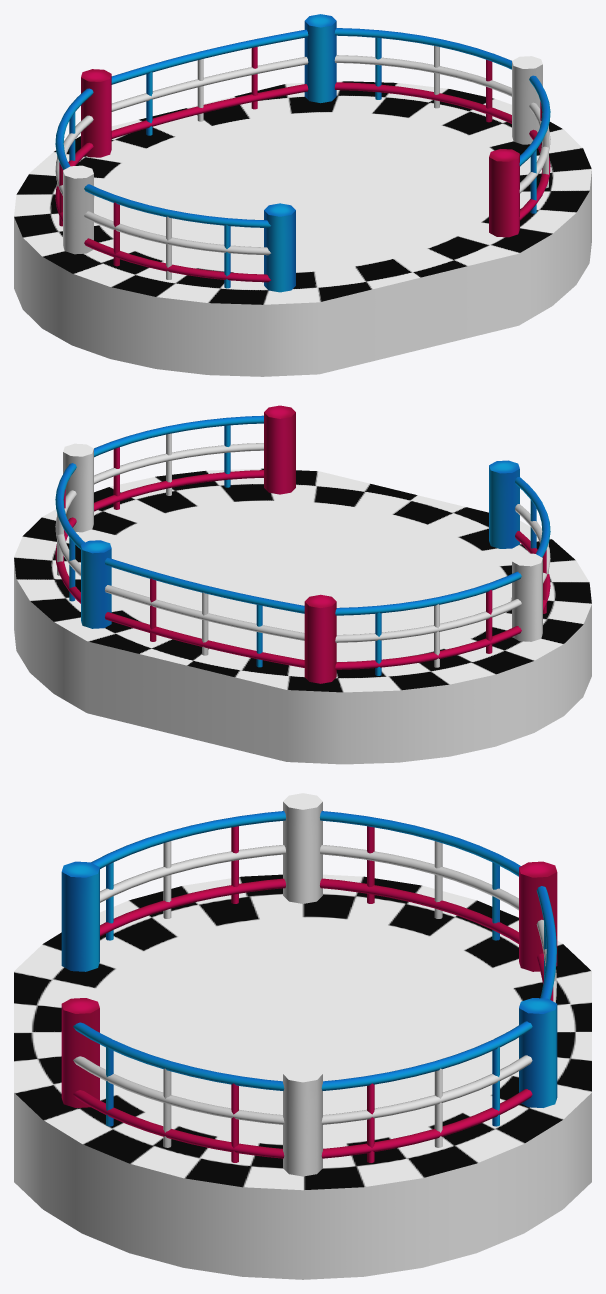
File: Mini_Boss.fbx
3 views of the same model, one above another, from view 1: azimuth 30°, elevation 25°; view 2: azimuth 150°, elevation 25°; view 3: azimuth 270°, elevation 25° (orthographic). The views are drawn at different scales.
Parts seen in each view (by area): view 1: Base, polySurface3 (×5), polySurface31 (×5), polySurface32 (×4), polySurface29, polySurface27, polySurface26, polySurface5, polySurface30, polySurface28; view 2: Base, polySurface3 (×5), polySurface31 (×4), polySurface32 (×3), polySurface30, polySurface27, polySurface26, polySurface29, polySurface5, polySurface28; view 3: Base, polySurface3 (×5), polySurface31 (×4), polySurface32 (×4), polySurface28, polySurface26, polySurface5, polySurface29, polySurface27, polySurface30.
Boxes of the visible parts, bbox=[...] form: Base: bbox=[14, 81, 591, 376]; polySurface3 (×5): bbox=[55, 28, 550, 227]; polySurface31 (×5): bbox=[55, 55, 550, 255]; polySurface32 (×4): bbox=[84, 82, 550, 282]; polySurface29: bbox=[304, 14, 336, 103]; polySurface27: bbox=[489, 149, 519, 237]; polySurface26: bbox=[264, 203, 295, 292]; polySurface5: bbox=[63, 165, 93, 254]; polySurface30: bbox=[81, 69, 111, 157]; polySurface28: bbox=[512, 56, 542, 144]; Base: bbox=[14, 468, 591, 764]; polySurface3 (×5): bbox=[55, 415, 550, 615]; polySurface31 (×4): bbox=[55, 443, 521, 642]; polySurface32 (×3): bbox=[94, 470, 521, 669]; polySurface30: bbox=[304, 594, 336, 683]; polySurface27: bbox=[264, 405, 295, 494]; polySurface26: bbox=[489, 460, 519, 548]; polySurface29: bbox=[81, 540, 111, 628]; polySurface5: bbox=[512, 553, 542, 641]; polySurface28: bbox=[63, 443, 93, 532]; Base: bbox=[14, 874, 591, 1279]; polySurface3 (×5): bbox=[73, 811, 556, 1090]; polySurface31 (×4): bbox=[73, 845, 532, 1124]; polySurface32 (×4): bbox=[73, 878, 532, 1158]; polySurface28: bbox=[283, 1065, 322, 1176]; polySurface26: bbox=[61, 861, 99, 971]; polySurface5: bbox=[283, 793, 322, 903]; polySurface29: bbox=[519, 998, 557, 1107]; polySurface27: bbox=[61, 998, 99, 1107]; polySurface30: bbox=[519, 861, 557, 971].
Size of the model in its own units: 5747 by 1555 by 4433.
